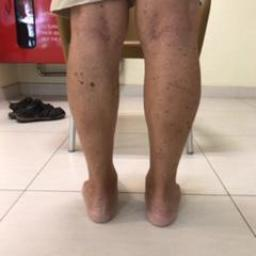Back View -Both Feet-: (64, 144, 202, 237)
